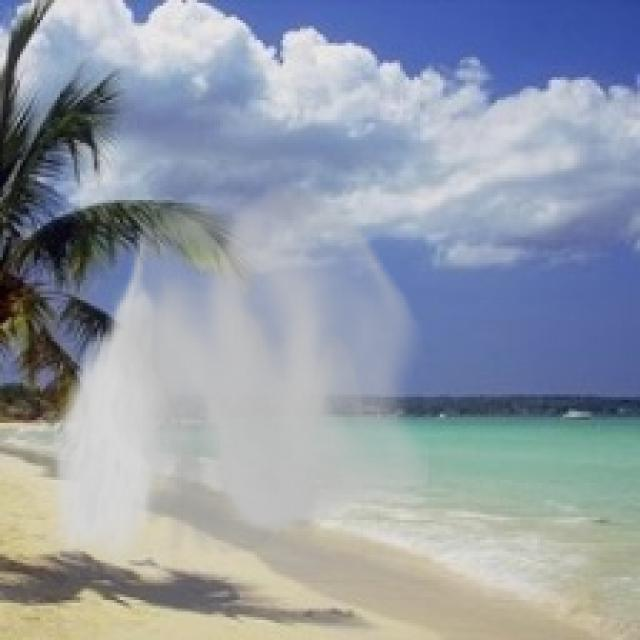Smoke: (46, 171, 432, 580)
